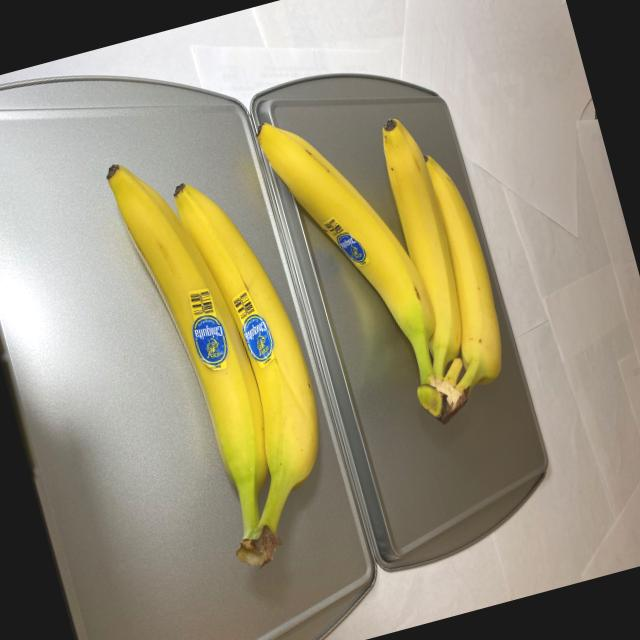banana: (90, 127, 360, 586), (250, 64, 526, 454)
